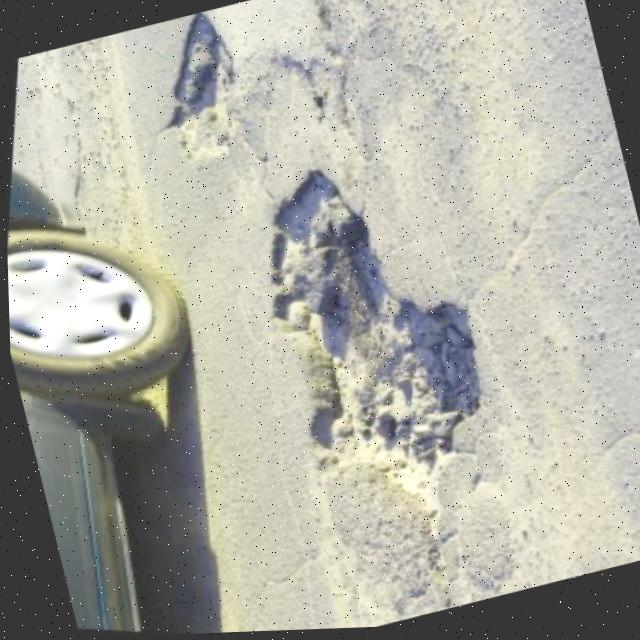Pothole: (159, 101, 598, 586), (122, 0, 293, 193)
